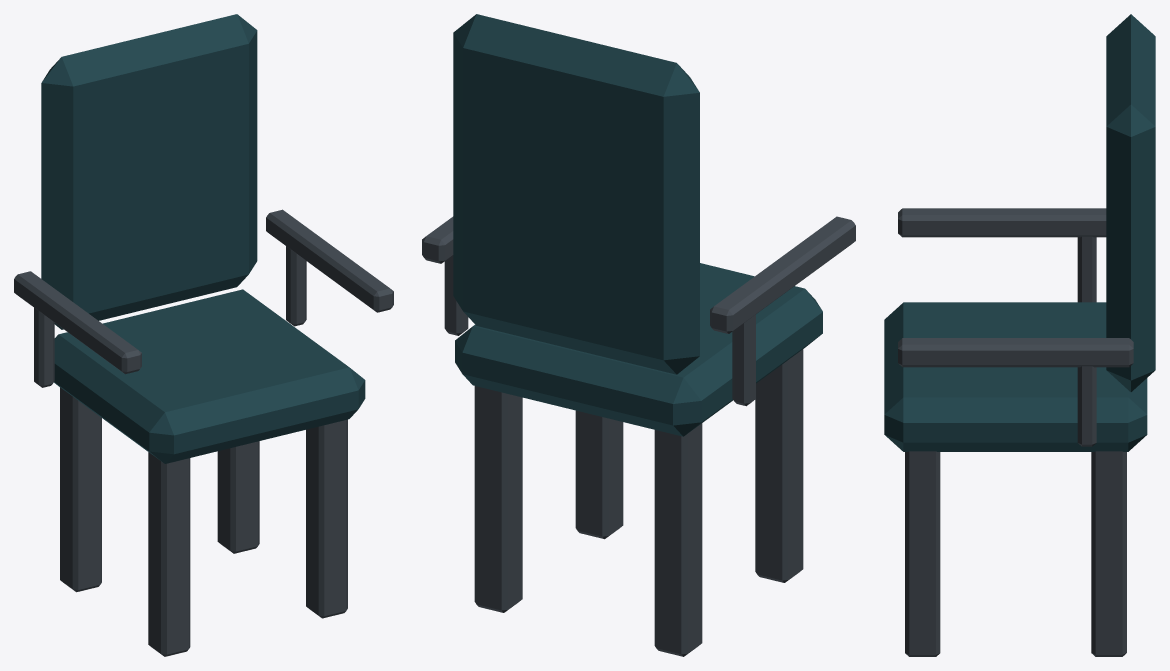
The model's file is VisitorChair.fbx.
3 views of the same model, side by side, from view 1: azimuth 30°, elevation 25°; view 2: azimuth 150°, elevation 25°; view 3: azimuth 270°, elevation 25° (orthographic). The views are drawn at different scales.
Visible parts, largest first — view 1: VisitorChair; view 2: VisitorChair; view 3: VisitorChair.
Boxes of the visible parts, <box> form: VisitorChair: <box>14,14,393,656</box>; VisitorChair: <box>422,14,855,656</box>; VisitorChair: <box>884,14,1155,656</box>.
Bounding box in the file's own units: 60.5 × 111 × 49.5.
Materials: 1 (1 with a texture image).
